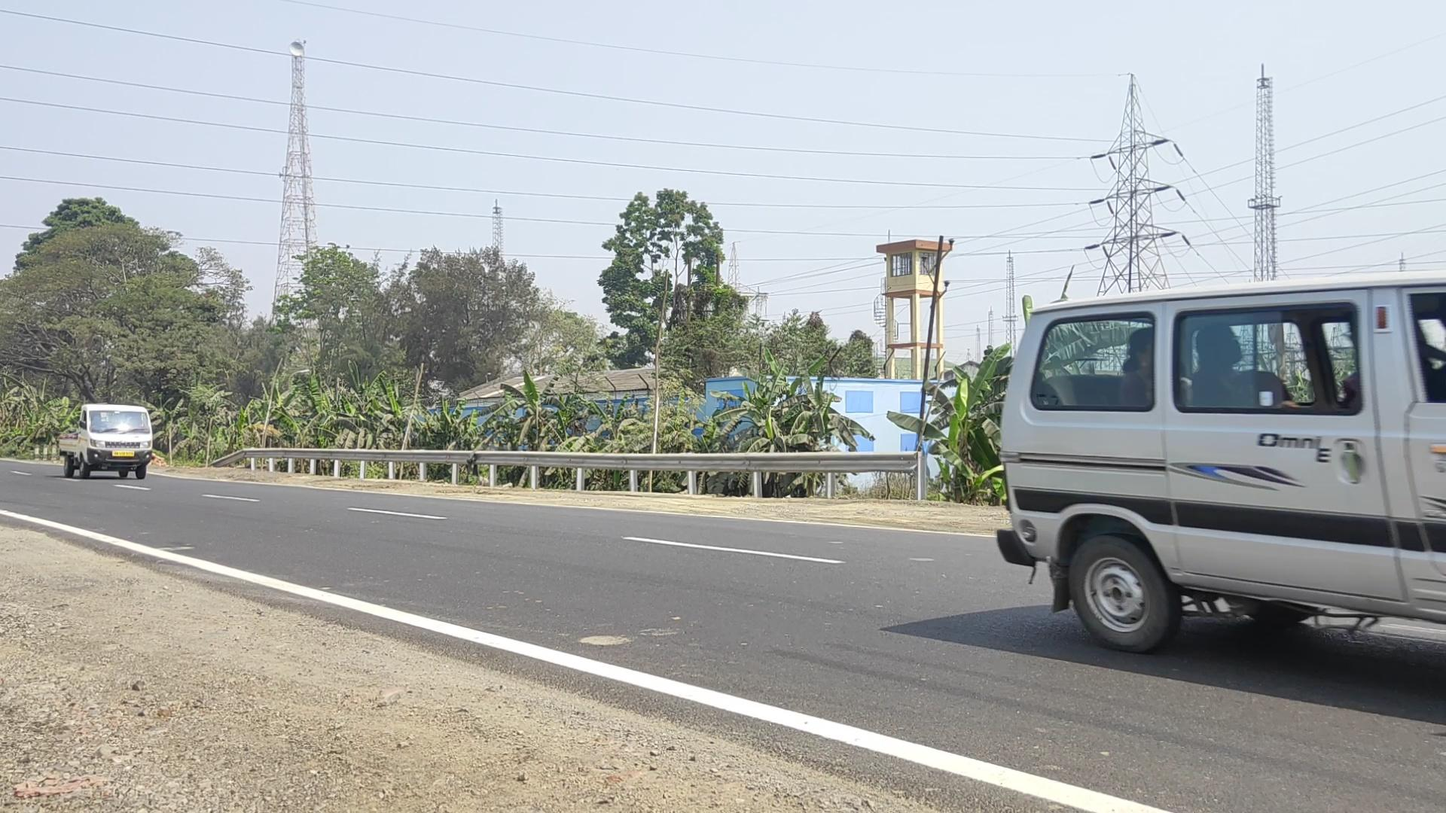van: (996, 267, 1446, 671), (58, 403, 153, 480)
